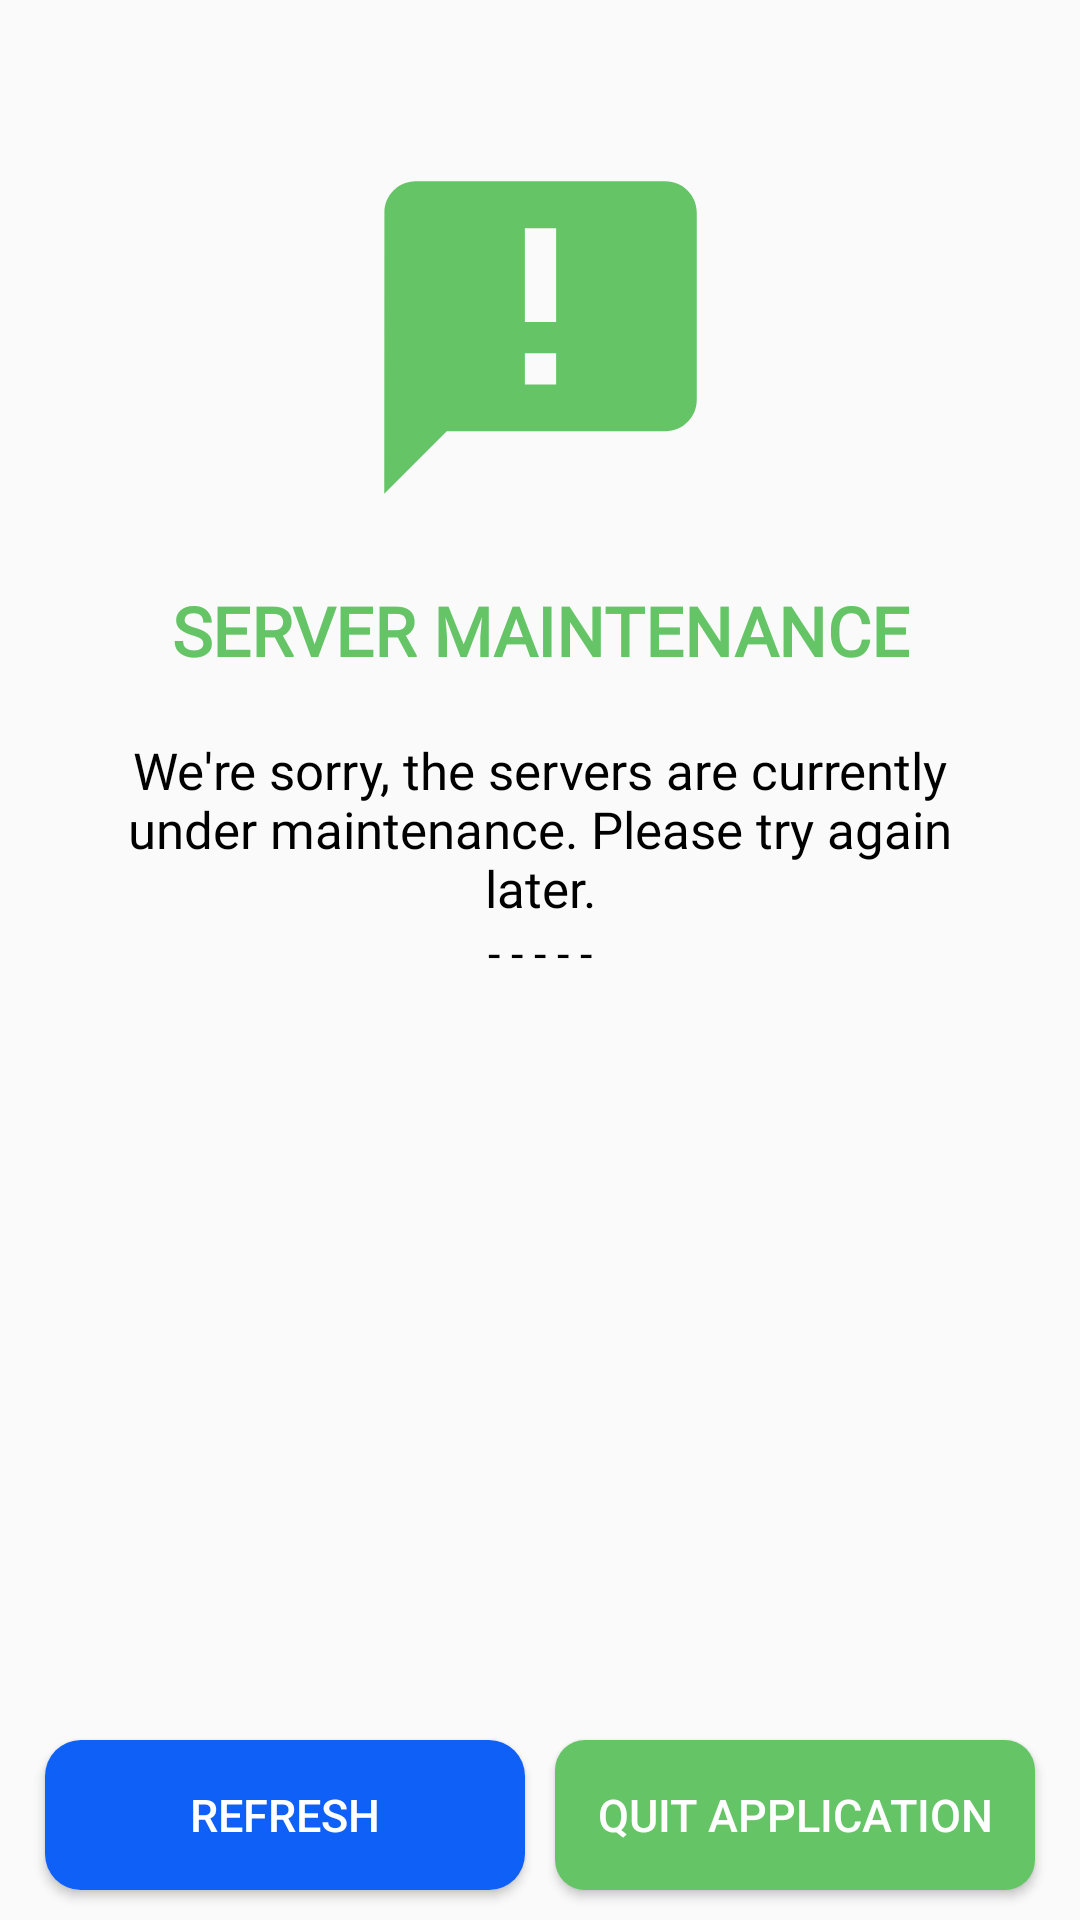

Icons on this 1080w x 1920h Android screen, each with the point to tap as (x,y):
announcement: (540,337)
